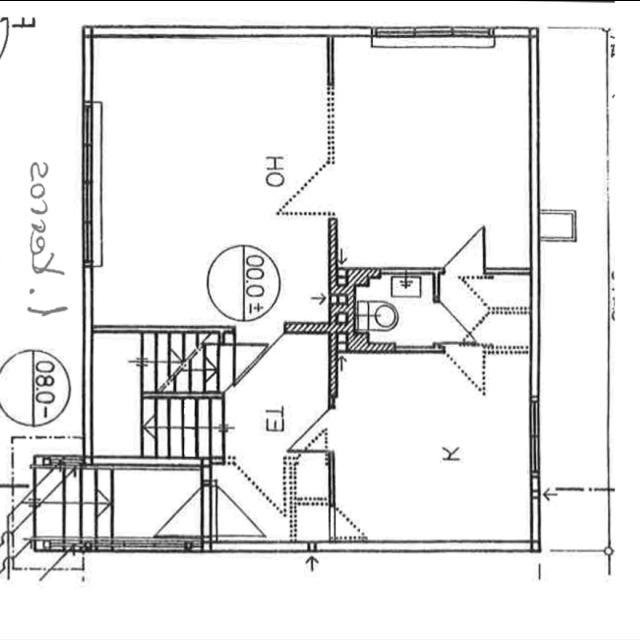door: (261, 134, 343, 226), (211, 450, 291, 526), (200, 468, 276, 545), (200, 330, 278, 403), (139, 474, 212, 541), (424, 337, 493, 402), (429, 208, 490, 280), (327, 494, 373, 544), (293, 421, 334, 449)
window: (357, 18, 508, 60), (72, 90, 105, 272), (519, 391, 545, 479)
